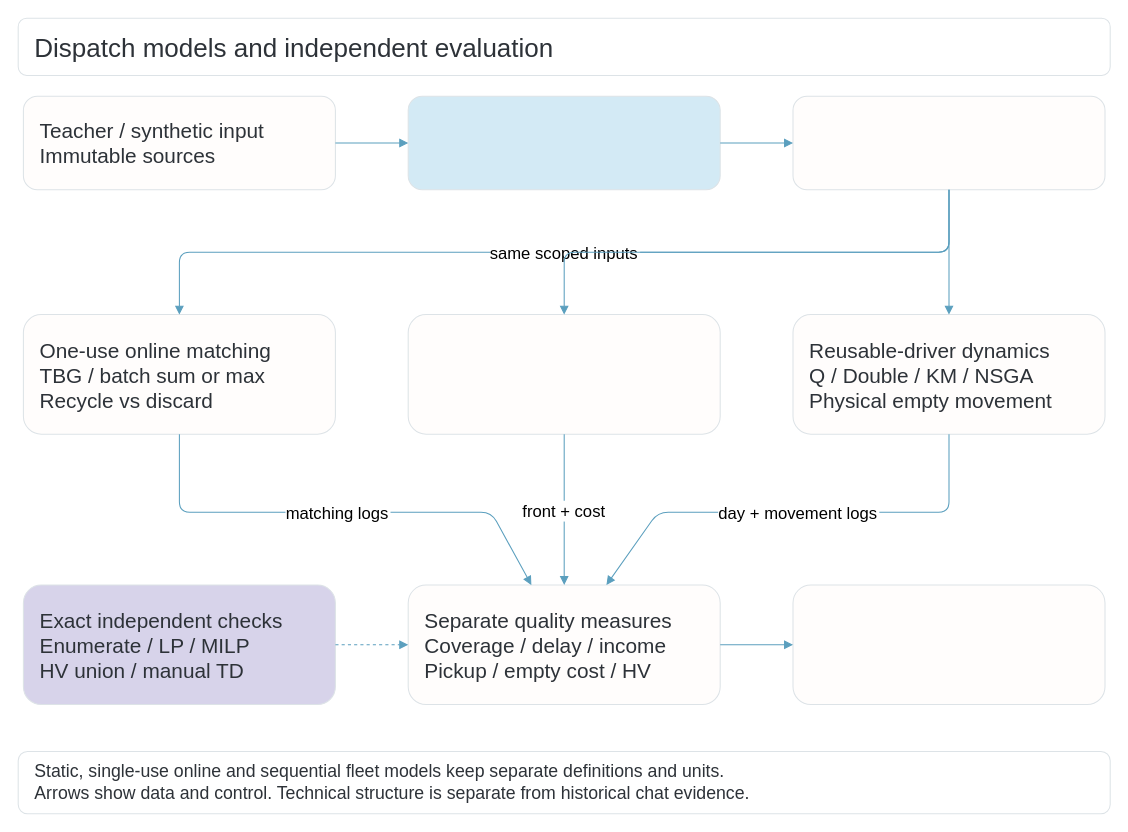
The diagram is 1128 pixels wide and 832 high, and some of its shapes have lost their labels. The box of each missing label's shape, as (x1, y1, x2, y2) in pixels:
Chronological contract Inner / validate / test: (407, 95, 720, 190)
Common scoped instances Arrivals / batch / day: (792, 95, 1105, 190)
Static optional matching NSGA-II/III / weighted KM Common feasible edges: (407, 314, 720, 434)
Valid runs -> figures Reports / source / rerun Negative results retained: (792, 584, 1105, 705)
